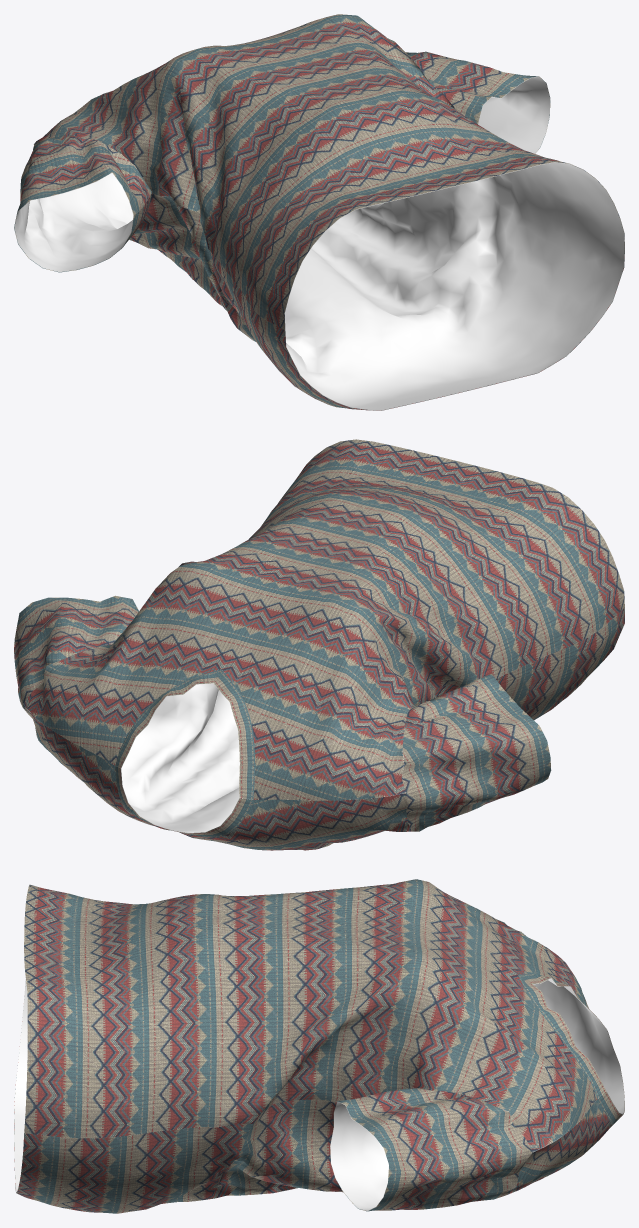
The model's file is female_fat_jCYDERq.glb.
3 renders of one model, top to bottom at view 1: azimuth 30°, elevation 25°; view 2: azimuth 150°, elevation 25°; view 3: azimuth 270°, elevation 25°, orthographic. The views are drawn at different scales.
Parts seen in each view (by area): view 1: female_fat; view 2: female_fat; view 3: female_fat.
Part boxes in pixels (bbox=[...]): female_fat: bbox=[14, 14, 624, 410]; female_fat: bbox=[14, 439, 624, 850]; female_fat: bbox=[14, 879, 624, 1213].
Bounding box in the file's own units: 0.6859 × 0.3086 × 0.6467.
Materials: 2 (1 with a texture image).
